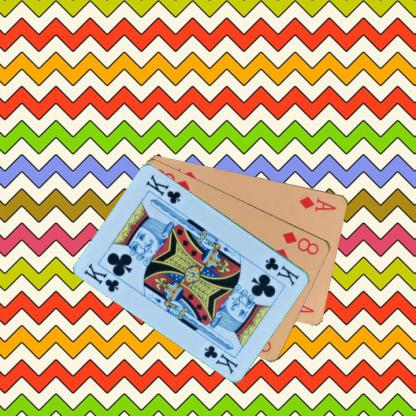8d: (280, 228, 321, 257)
Ad: (296, 193, 338, 213)
Kc: (81, 260, 121, 294), (262, 254, 301, 287)
